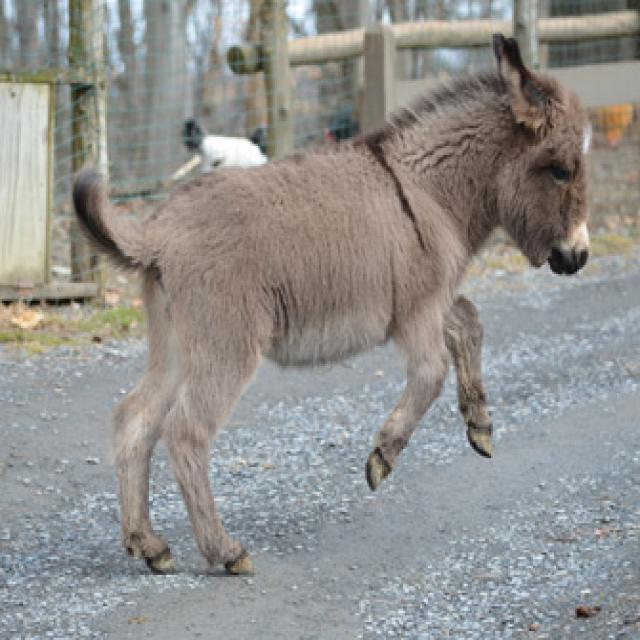Donkey: (71, 33, 594, 580)
